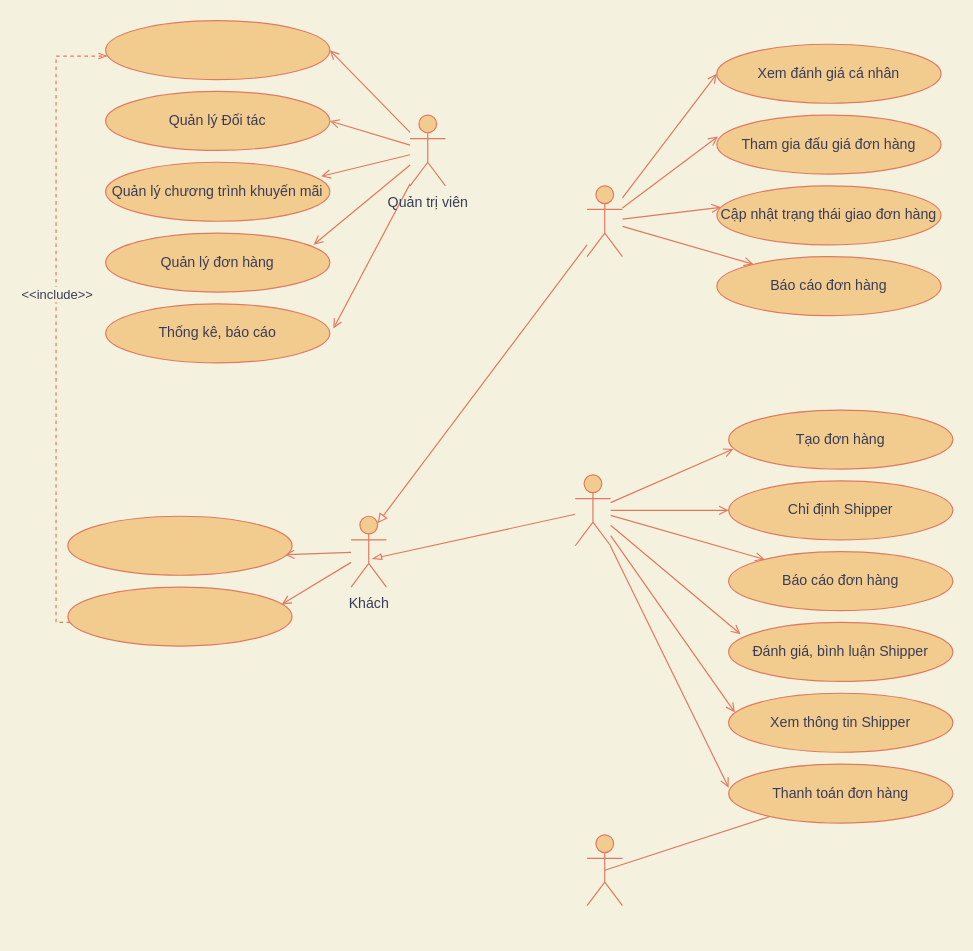
Image size: 973x951. Some labels were removed from this diagram. Each missing label, with the centre of its shape:
Người dùng: point 592,510
Shipper: point 604,221
Xác nhận, duyệt thông tin: point 217,49
ZaloPay/Momo: point 604,870
Đăng ký làm Người dùng: point 179,545
Đăng ký làm Shipper: point 179,616
